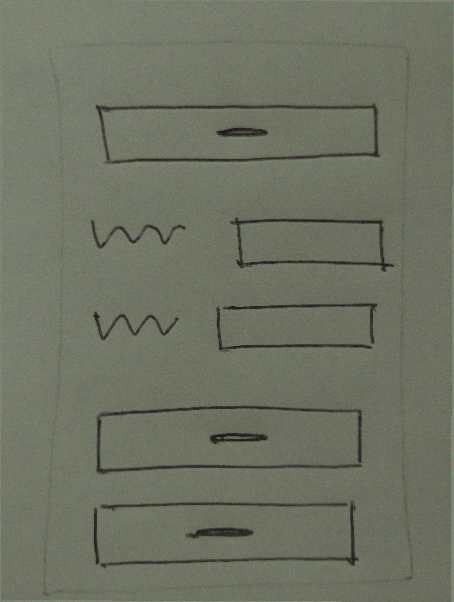button: (91, 94, 385, 183), (92, 397, 367, 482), (84, 497, 366, 574)
text: (85, 203, 191, 256), (89, 300, 185, 349)
text_input: (223, 209, 395, 279), (207, 296, 385, 357)
